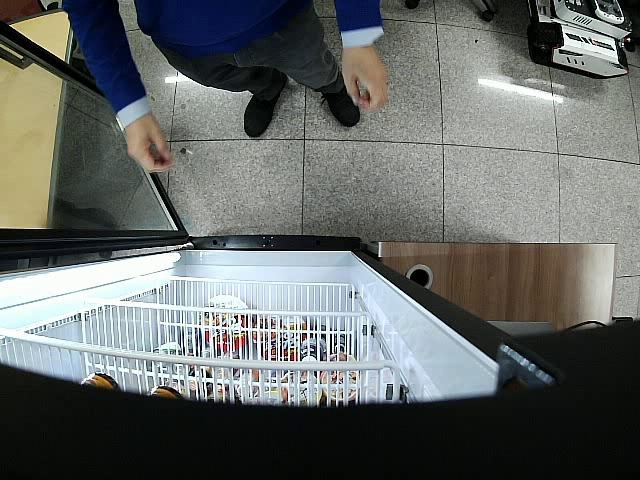00_hand: (341, 50, 389, 111), (125, 129, 174, 175)
